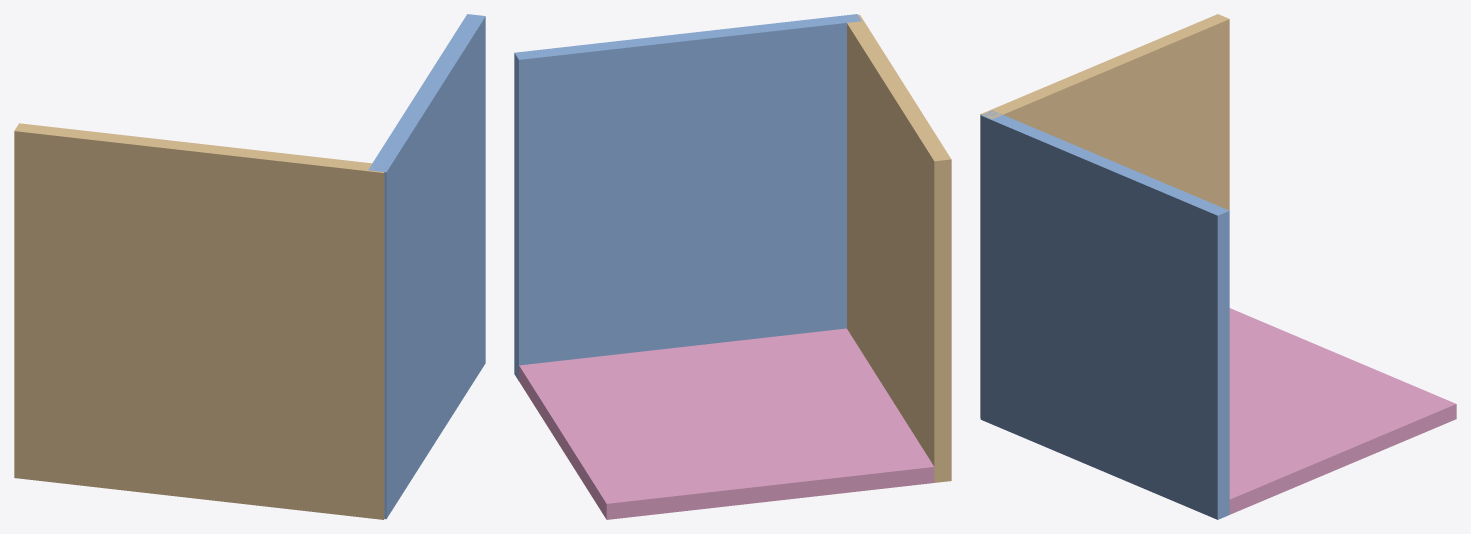
The model's file is room.glb.
3 renders of one model, left to right at view 1: azimuth 30°, elevation 25°; view 2: azimuth 150°, elevation 25°; view 3: azimuth 270°, elevation 25°, orthographic. The views are drawn at different scales.
Parts seen in each view (by area): view 1: Cube.002, Cube; view 2: Cube, Cube.001, Cube.002; view 3: Cube, Cube.001, Cube.002.
Part boxes in pixels (x1,y1,x2,y2): Cube.002: (14,123,384,519); Cube: (368,14,485,519); Cube: (514,14,861,380); Cube.001: (519,328,934,519); Cube.002: (847,14,951,482); Cube: (980,110,1229,519); Cube.001: (1229,308,1456,514); Cube.002: (980,14,1229,417).
Size of the model in its own units: 14.22 by 10 by 14.18.
